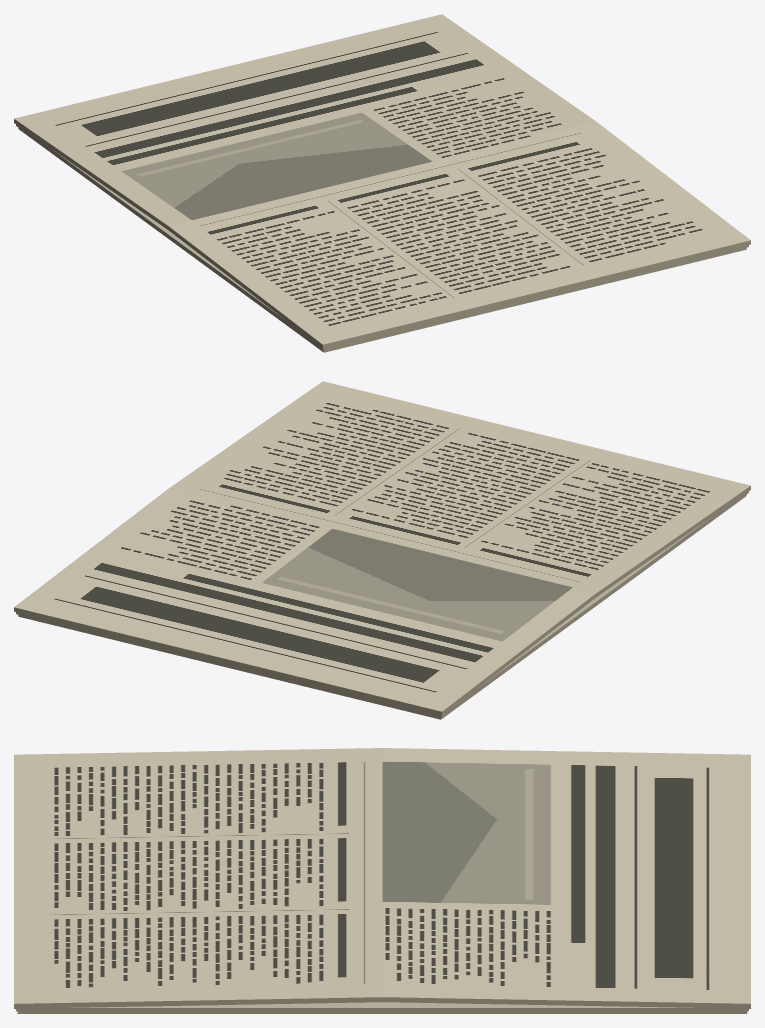
The model's file is Gazette_Archived_Newspaper.fbx.
3 renders of one model, top to bottom at view 1: azimuth 30°, elevation 25°; view 2: azimuth 150°, elevation 25°; view 3: azimuth 270°, elevation 25°, orthographic. The views are drawn at different scales.
Visible parts, largest first — view 1: Gazette_Archived_Newspaper; view 2: Gazette_Archived_Newspaper; view 3: Gazette_Archived_Newspaper.
Boxes of the visible parts, box(x1,y1,x2,y2) form: Gazette_Archived_Newspaper: box(14, 14, 750, 352); Gazette_Archived_Newspaper: box(14, 381, 750, 719); Gazette_Archived_Newspaper: box(14, 748, 750, 1013).
Size of the model in its own units: 0.32 by 0.011 by 0.4.
